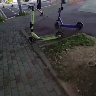beam: (53, 1, 85, 33)
gcooter: (26, 4, 65, 44)
